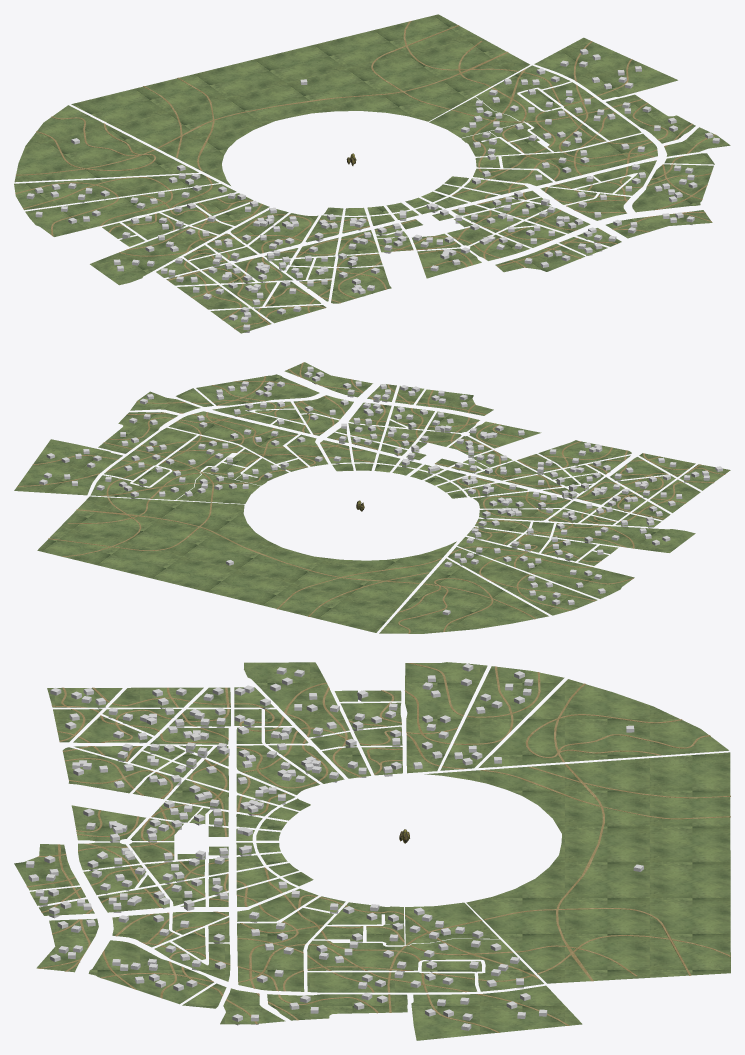
File: greenAreaTrees.glb
The picture shows the model from 3 angles, top to bottom: view 1: azimuth 30°, elevation 25°; view 2: azimuth 150°, elevation 25°; view 3: azimuth 270°, elevation 25°; orthographic projection. The views are drawn at different scales.
Parts seen in each view (by area): view 1: ground_greenAreaTrees_81, ground_greenAreaTrees_82, ground_greenAreaTrees_93, ground_greenAreaTrees_49, ground_greenAreaTrees_76, ground_greenAreaTrees_48, ground_greenAreaTrees_68, ground_greenAreaTrees_53, ground_greenAreaTrees_83, ground_greenAreaTrees_78, streets_greenAreaTrees_81, ground_greenAreaTrees_92 (+31 smaller); view 2: ground_greenAreaTrees_81, ground_greenAreaTrees_82, ground_greenAreaTrees_93, ground_greenAreaTrees_49, ground_greenAreaTrees_76, ground_greenAreaTrees_48, ground_greenAreaTrees_68, ground_greenAreaTrees_53, ground_greenAreaTrees_83, ground_greenAreaTrees_78, streets_greenAreaTrees_81, ground_greenAreaTrees_92 (+30 smaller); view 3: ground_greenAreaTrees_81, ground_greenAreaTrees_82, ground_greenAreaTrees_93, ground_greenAreaTrees_49, ground_greenAreaTrees_76, ground_greenAreaTrees_48, ground_greenAreaTrees_68, ground_greenAreaTrees_53, ground_greenAreaTrees_83, ground_greenAreaTrees_78, streets_greenAreaTrees_81, ground_greenAreaTrees_92 (+38 smaller).
Part boxes in pixels (left/top/right/bottom): ground_greenAreaTrees_81: left=71, top=14, right=529, bottom=185; ground_greenAreaTrees_82: left=14, top=105, right=198, bottom=182; ground_greenAreaTrees_93: left=534, top=37, right=677, bottom=99; ground_greenAreaTrees_49: left=25, top=184, right=236, bottom=236; ground_greenAreaTrees_76: left=476, top=65, right=606, bottom=151; ground_greenAreaTrees_48: left=14, top=174, right=218, bottom=210; ground_greenAreaTrees_68: left=501, top=133, right=657, bottom=181; ground_greenAreaTrees_53: left=90, top=226, right=216, bottom=285; ground_greenAreaTrees_83: left=632, top=164, right=713, bottom=212; ground_greenAreaTrees_78: left=543, top=82, right=641, bottom=140; streets_greenAreaTrees_81: left=143, top=21, right=518, bottom=170; ground_greenAreaTrees_92: left=606, top=94, right=695, bottom=143; ground_greenAreaTrees_81: left=37, top=496, right=456, bottom=632; ground_greenAreaTrees_82: left=379, top=558, right=548, bottom=633; ground_greenAreaTrees_93: left=14, top=439, right=122, bottom=495; ground_greenAreaTrees_49: left=457, top=537, right=634, bottom=598; ground_greenAreaTrees_76: left=90, top=435, right=243, bottom=499; ground_greenAreaTrees_48: left=448, top=547, right=597, bottom=615; ground_greenAreaTrees_68: left=168, top=411, right=298, bottom=463; ground_greenAreaTrees_53: left=552, top=523, right=695, bottom=552; ground_greenAreaTrees_83: left=196, top=374, right=319, bottom=405; ground_greenAreaTrees_78: left=104, top=427, right=196, bottom=480; streets_greenAreaTrees_81: left=48, top=497, right=441, bottom=616; ground_greenAreaTrees_92: left=98, top=412, right=177, bottom=453; ground_greenAreaTrees_81: left=424, top=752, right=730, bottom=983; ground_greenAreaTrees_82: left=479, top=679, right=728, bottom=767; ground_greenAreaTrees_93: left=411, top=985, right=582, bottom=1040; ground_greenAreaTrees_49: left=405, top=662, right=487, bottom=773; ground_greenAreaTrees_76: left=307, top=939, right=543, bottom=991; ground_greenAreaTrees_48: left=440, top=666, right=564, bottom=770; ground_greenAreaTrees_68: left=237, top=908, right=333, bottom=991; ground_greenAreaTrees_53: left=244, top=662, right=349, bottom=737; ground_greenAreaTrees_83: left=88, top=940, right=213, bottom=1004; ground_greenAreaTrees_78: left=307, top=972, right=477, bottom=992; streets_greenAreaTrees_81: left=480, top=764, right=730, bottom=981; ground_greenAreaTrees_92: left=267, top=994, right=407, bottom=1020.
Bounding box in the file's own units: 11.64 × 0.2584 × 9.31.
Materials: 6 (6 with a texture image).
